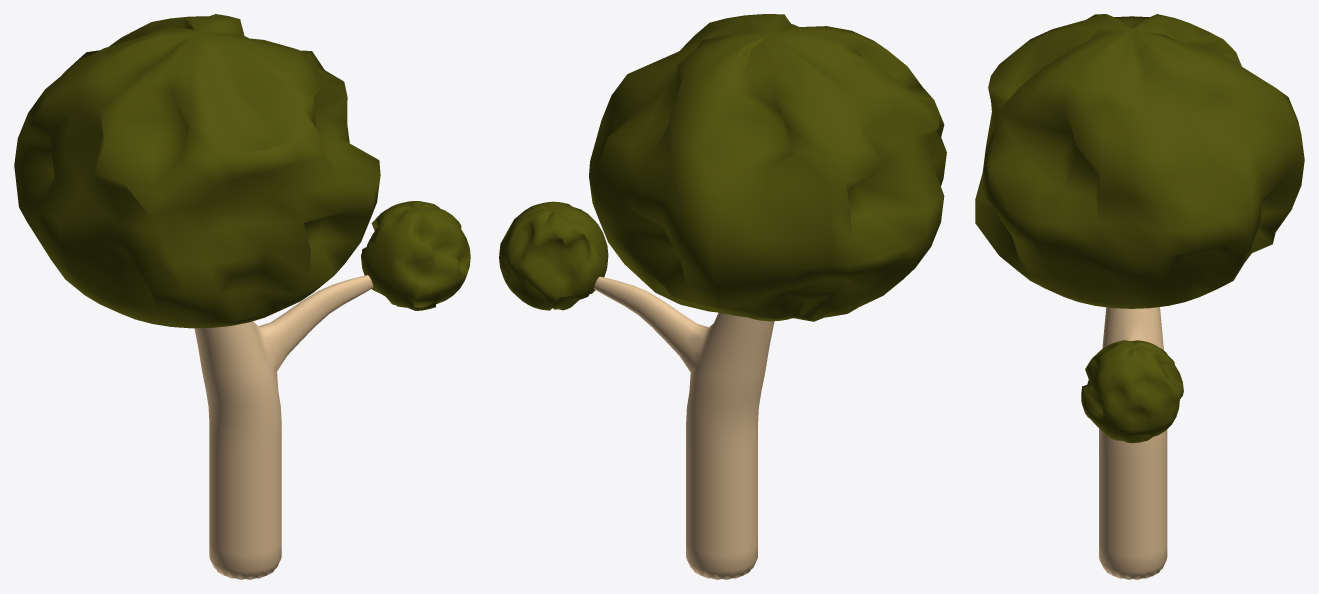
File: BirchTreeWBush.FBX
3 renders of one model, left to right at view 1: azimuth 30°, elevation 25°; view 2: azimuth 150°, elevation 25°; view 3: azimuth 270°, elevation 25°, orthographic. The views are drawn at different scales.
Visible parts, largest first — view 1: Sphere001, Cylinder002, Sphere002; view 2: Sphere001, Cylinder002, Sphere002; view 3: Sphere001, Cylinder002, Sphere002.
Boxes of the visible parts, x1,y1,x2,y2 form: Sphere001: (14,14,380,328); Cylinder002: (194,275,373,579); Sphere002: (361,201,470,310); Sphere001: (589,14,946,321); Cylinder002: (593,276,774,579); Sphere002: (499,201,608,310); Sphere001: (975,14,1304,308); Cylinder002: (1099,307,1167,579); Sphere002: (1081,340,1183,443).
Bounding box in the file's own units: 2.67 × 3.32 × 1.91.
